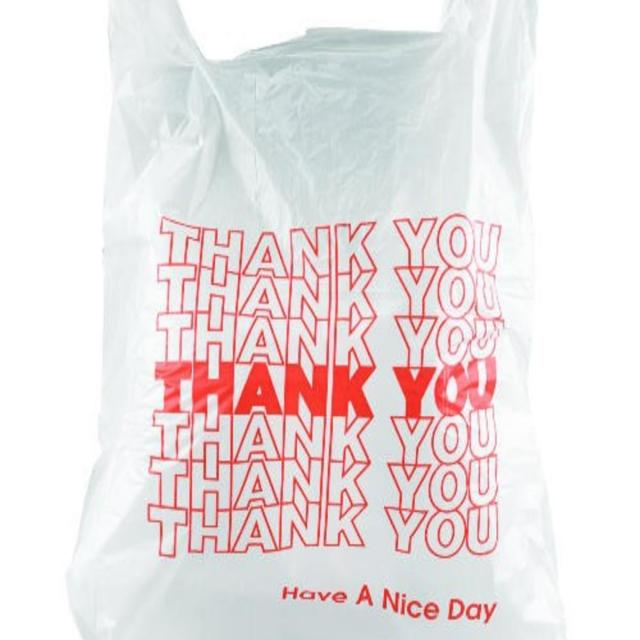plastic_bag: (61, 1, 575, 640)
